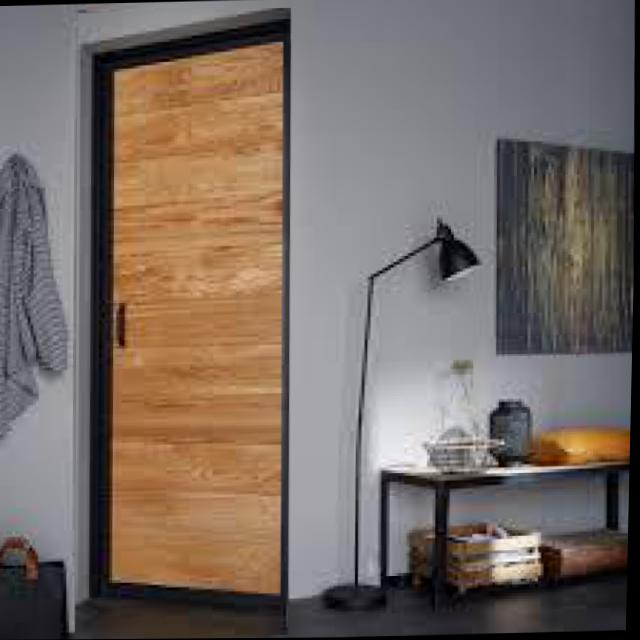close: (66, 7, 303, 639)
